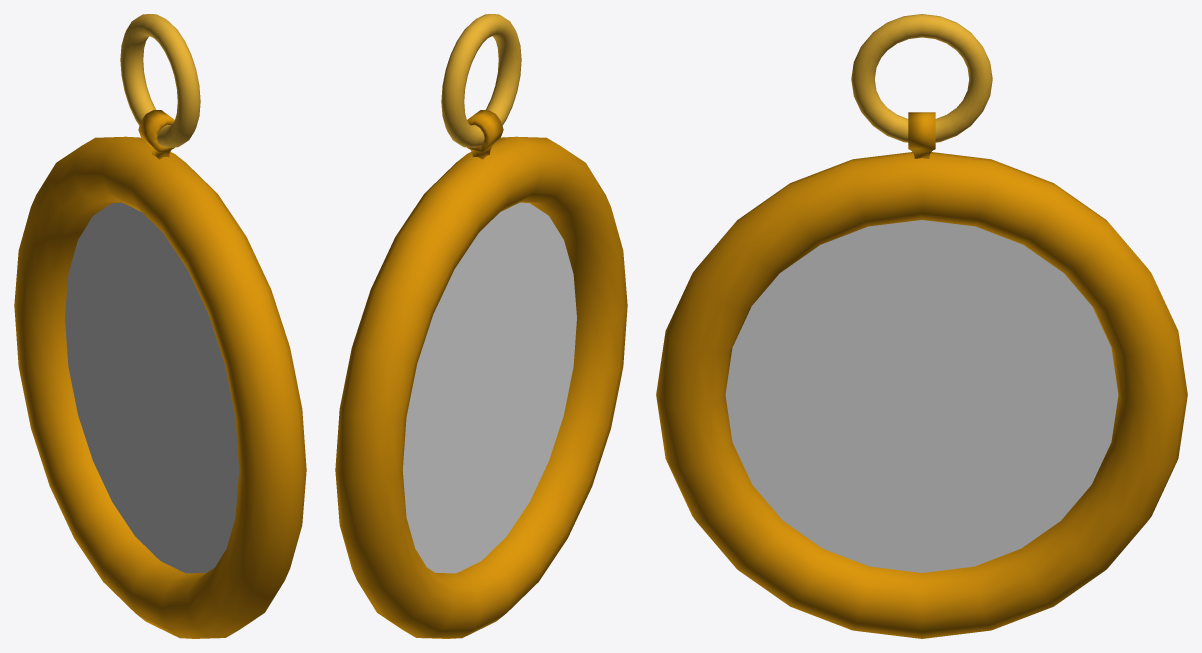
Rendered from BrassMirror.fbx.
3 views of the same model, side by side, from view 1: azimuth 30°, elevation 25°; view 2: azimuth 150°, elevation 25°; view 3: azimuth 270°, elevation 25° (orthographic). The views are drawn at different scales.
Visible parts, largest first — view 1: BrassMirror, BrassMirrorSurface, BrassMirrorHandle, BrassMirrorJoint; view 2: BrassMirror, BrassMirrorSurface, BrassMirrorHandle, BrassMirrorJoint; view 3: BrassMirrorSurface, BrassMirror, BrassMirrorHandle, BrassMirrorJoint.
Part boxes in pixels (x1,y1,x2,y2): BrassMirror: [14, 136, 306, 638]; BrassMirrorSurface: [65, 202, 239, 573]; BrassMirrorHandle: [120, 14, 200, 147]; BrassMirrorJoint: [138, 110, 174, 159]; BrassMirror: [335, 136, 627, 638]; BrassMirrorSurface: [402, 202, 576, 573]; BrassMirrorHandle: [441, 14, 521, 147]; BrassMirrorJoint: [467, 110, 503, 159]; BrassMirrorSurface: [725, 220, 1118, 572]; BrassMirror: [656, 152, 1187, 638]; BrassMirrorHandle: [851, 14, 992, 142]; BrassMirrorJoint: [908, 112, 935, 158].
Size of the model in its own units: 1.18 by 9.02 by 11.62.
